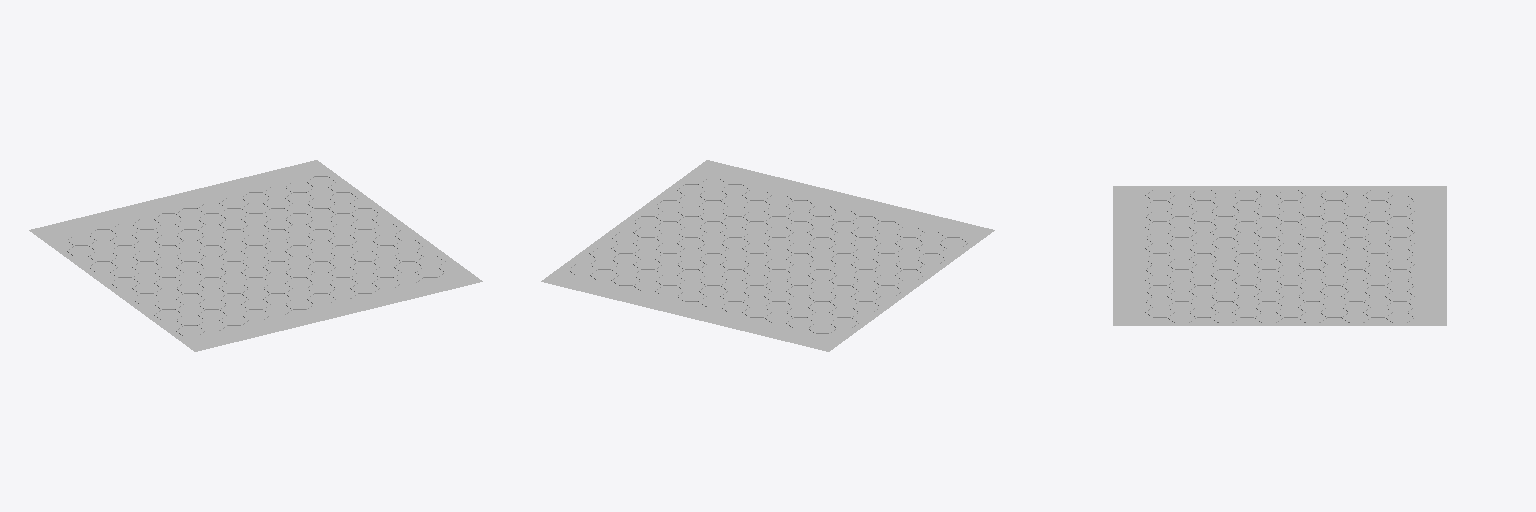
File: Floor6Sides.obj
3 renders of one model, left to right at view 1: azimuth 30°, elevation 25°; view 2: azimuth 150°, elevation 25°; view 3: azimuth 270°, elevation 25°, orthographic.
Parts seen in each view (by area): view 1: Floorplane_Plane, Floor6_HoneyComb; view 2: Floorplane_Plane, Floor6_HoneyComb; view 3: Floorplane_Plane, Floor6_HoneyComb.
Boxes of the visible parts, x1=… form: Floorplane_Plane: x1=29, y1=160, x2=482, y2=351; Floor6_HoneyComb: x1=66, y1=175, x2=445, y2=335; Floorplane_Plane: x1=541, y1=160, x2=994, y2=351; Floor6_HoneyComb: x1=568, y1=178, x2=967, y2=333; Floorplane_Plane: x1=1113, y1=186, x2=1446, y2=325; Floor6_HoneyComb: x1=1145, y1=189, x2=1414, y2=322.
Size of the model in its own units: 11.12 by 0.0299 by 11.12.